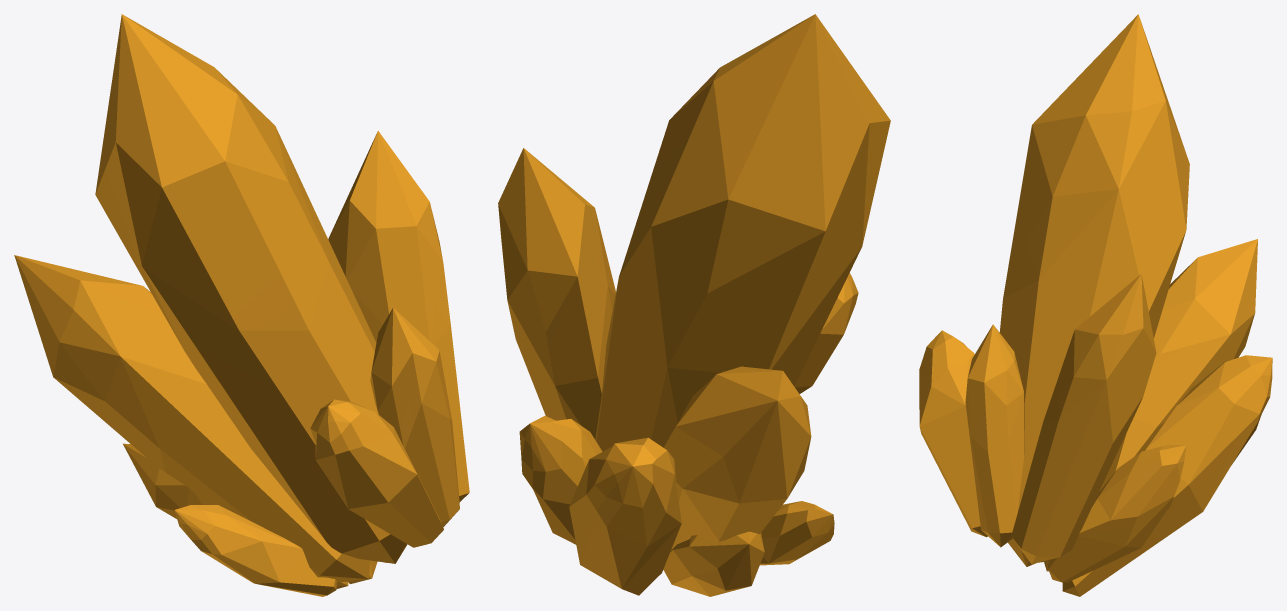
Rendered from visual-diamond-1.glb.
The picture shows the model from 3 angles, left to right: view 1: azimuth 30°, elevation 25°; view 2: azimuth 150°, elevation 25°; view 3: azimuth 270°, elevation 25°; orthographic projection. The views are drawn at different scales.
Visible parts, largest first — view 1: 球体.001; view 2: 球体.001; view 3: 球体.001.
Boxes of the visible parts, <box> form: 球体.001: <box>14,14,469,596</box>; 球体.001: <box>498,14,890,596</box>; 球体.001: <box>919,14,1272,596</box>.
Size of the model in its own units: 1.56 by 2.62 by 1.67.
